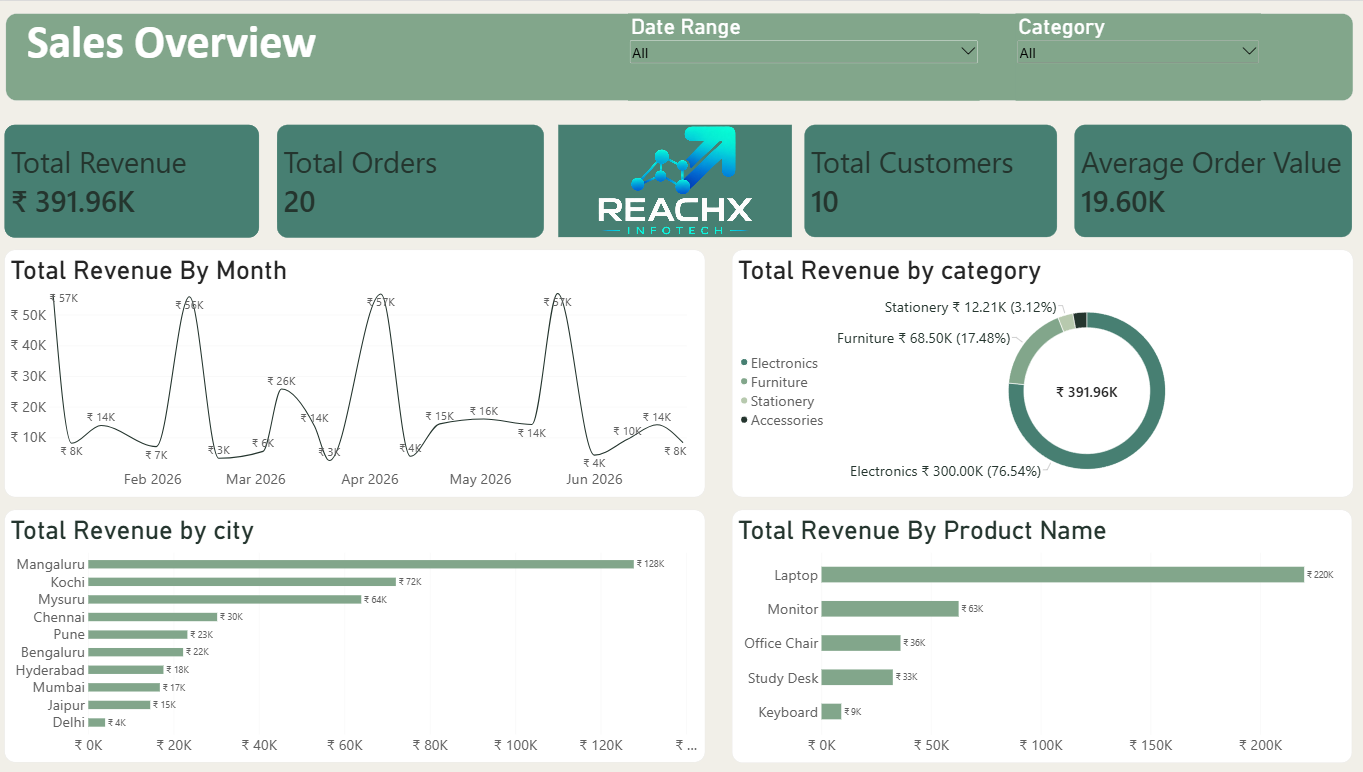

Layout of this report page (visuals, bound fields, positions):
{"tool":"powerbi","page":{"name":"Sales Overview","canvas":[3840,2160],"ordinal":0},"visuals":[{"type":"cardVisual","fields":{"Data":["public order_items.Total Revenue"]},"box":[35,345,710,315],"z":0},{"type":"textbox","box":[36.7,33.3,3760,243.3],"z":1000},{"type":"cardVisual","title":"Total Customers","fields":{"Data":["public customers.total customers"]},"box":[2267.4,345.3,704.7,314],"z":2000},{"type":"cardVisual","fields":{"Data":["public orders.Average Order Value"]},"box":[3020.9,345.3,774.4,314],"z":3000},{"type":"lineChart","title":"Total Revenue By Month","fields":{"Category":["public orders.order_date.Variation.Date Hierarchy.Month"],"Y":["public order_items.Total Revenue"]},"box":[35,695,1955,690],"z":4000},{"type":"cardVisual","fields":{"Data":["public orders.total orders"]},"box":[795.4,345.3,745,315],"z":5000},{"type":"donutChart","fields":{"Category":["public products.category"],"Y":["public order_items.Total Revenue"]},"box":[2065.1,694.2,1733.7,690.7],"z":6000},{"type":"barChart","fields":{"Category":["public customers.city"],"Y":["public order_items.Total Revenue"]},"box":[35,1420,1955,705],"z":7000},{"type":"barChart","title":"Total Revenue By Product Name","fields":{"Category":["public products.product_name"],"Y":["public order_items.Total Revenue"]},"box":[2066,1420,1730,706],"z":8000},{"type":"slicer","fields":{"Values":["DateTable.Month"]},"box":[1776.7,33.3,980,243.3],"z":9000},{"type":"slicer","fields":{"Values":["public products.category"]},"box":[2856.7,33.3,683.3,243.3],"z":10000},{"type":"image","box":[1580.2,345.3,652.3,314],"z":11000}]}

Visuals, with their boxes in screenshot pixels (x1, y1, x2, y2), scaled from the page's 3840x2160 canvas onto the 1363x772 screenshot:
cardVisual - public order_items.Total Revenue: box=[12, 123, 264, 236]
textbox: box=[13, 12, 1348, 99]
"Total Customers" cardVisual: box=[805, 123, 1055, 236]
cardVisual - public orders.Average Order Value: box=[1072, 123, 1347, 236]
"Total Revenue By Month" lineChart: box=[12, 248, 706, 495]
cardVisual - public orders.total orders: box=[282, 123, 547, 236]
donutChart - public products.category x public order_items.Total Revenue: box=[733, 248, 1348, 495]
barChart - public customers.city x public order_items.Total Revenue: box=[12, 508, 706, 759]
"Total Revenue By Product Name" barChart: box=[733, 508, 1347, 760]
slicer - DateTable.Month: box=[631, 12, 978, 99]
slicer - public products.category: box=[1014, 12, 1257, 99]
image: box=[561, 123, 792, 236]
